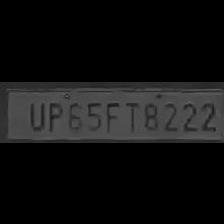2: (196, 98, 216, 132), (160, 98, 178, 132), (179, 98, 197, 132)
5: (84, 98, 104, 132)
6: (64, 98, 82, 132)
8: (139, 98, 159, 132)
F: (102, 97, 120, 132)
P: (43, 97, 62, 131)
T: (121, 97, 139, 132)
U: (24, 98, 44, 132)
